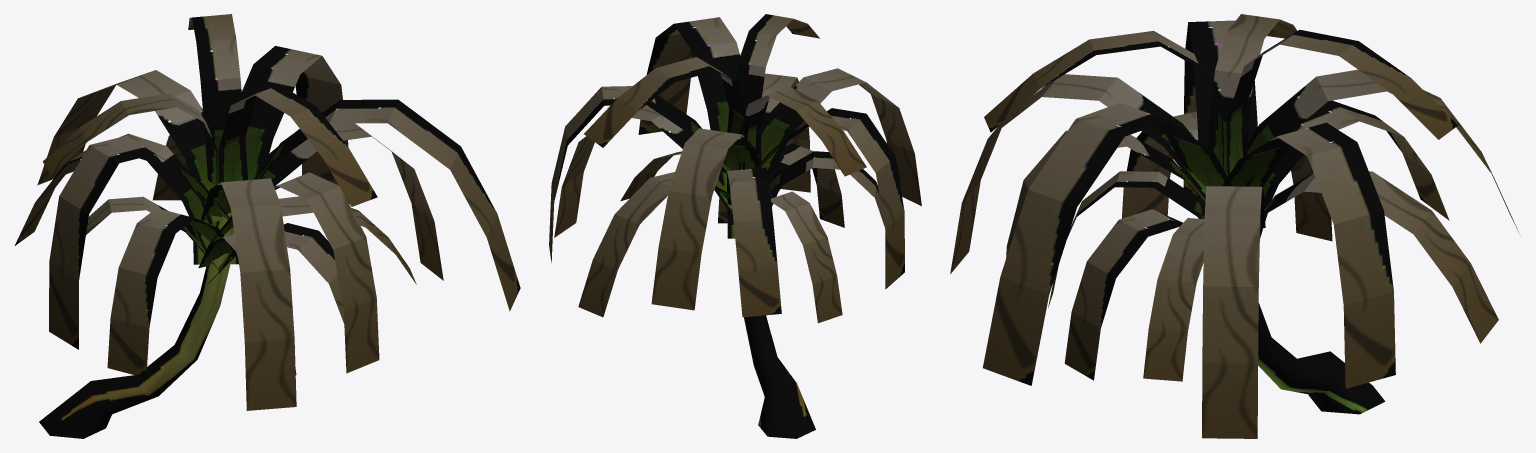
The model's file is Bush02.glb.
3 views of the same model, side by side, from view 1: azimuth 30°, elevation 25°; view 2: azimuth 150°, elevation 25°; view 3: azimuth 270°, elevation 25° (orthographic). The views are drawn at different scales.
Visible parts, largest first — view 1: Bush02; view 2: Bush02; view 3: Bush02.
Boxes of the visible parts, box(x1,y1,x2,y2) form: Bush02: box(14, 14, 520, 438); Bush02: box(549, 14, 921, 438); Bush02: box(950, 14, 1520, 438).
Bounding box in the file's own units: 5.39 × 5.11 × 6.16.
1 material, 1 textured.
